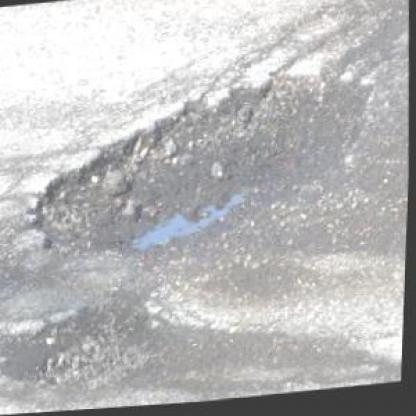pothole: (28, 68, 377, 265), (23, 297, 161, 402)
